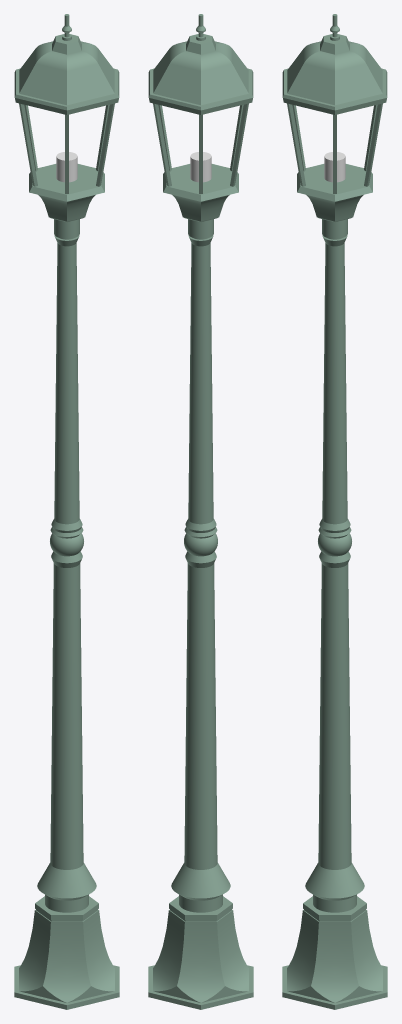
Rendered from 913_street_light.glb.
3 renders of one model, left to right at view 1: azimuth 90°, elevation 25°; view 2: azimuth 150°, elevation 25°; view 3: azimuth 270°, elevation 25°, orthographic.
Visible parts, largest first — view 1: Body; view 2: Body; view 3: Body.
Boxes of the visible parts, x1,y1,x2,y2 form: Body: (14,14,119,1009); Body: (148,14,253,1009); Body: (282,14,387,1009).
Size of the model in its own units: 0.6385 by 5.63 by 0.553.
